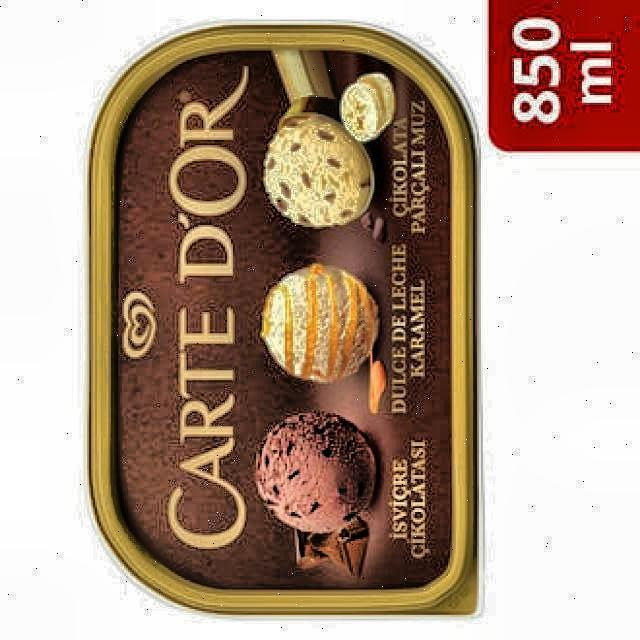plastic: (89, 26, 478, 613)
